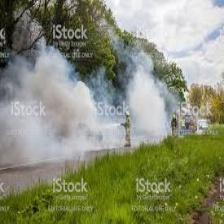smoke: (1, 66, 183, 174)
